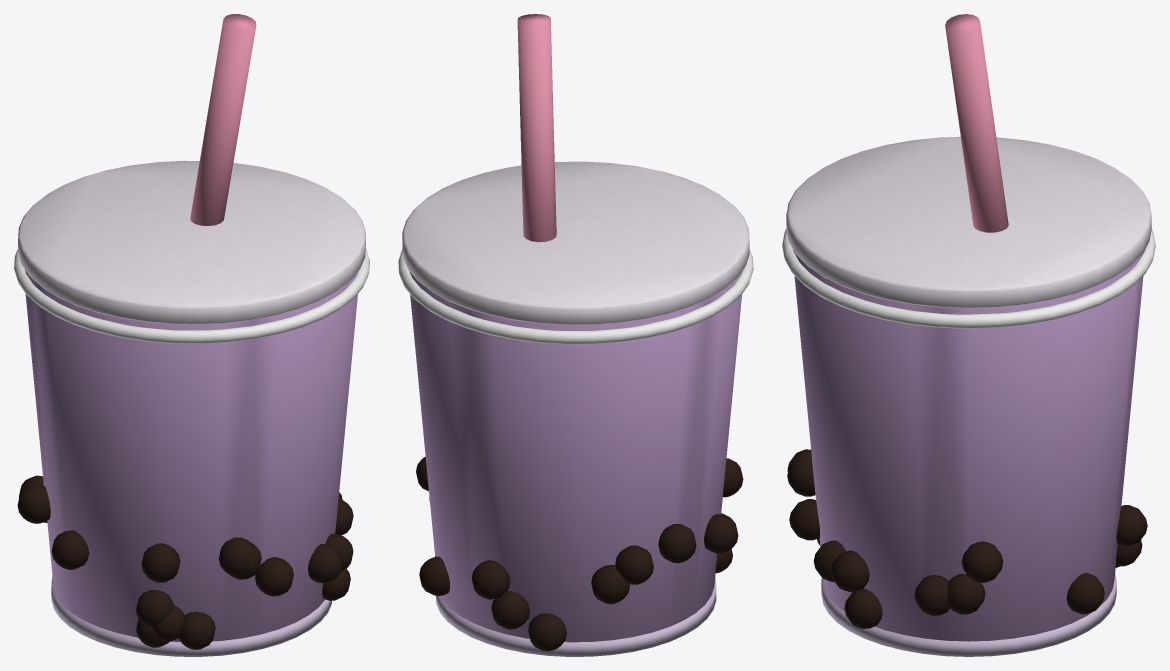
The model's file is keepsake-taro-milk-tea.glb.
The picture shows the model from 3 angles, left to right: view 1: azimuth 30°, elevation 25°; view 2: azimuth 150°, elevation 25°; view 3: azimuth 270°, elevation 25°; orthographic projection. The views are drawn at different scales.
Parts seen in each view (by area): view 1: keepsake-taro-milk-tea; view 2: keepsake-taro-milk-tea; view 3: keepsake-taro-milk-tea.
Part boxes in pixels (left/top/right/bottom): keepsake-taro-milk-tea: left=14, top=14, right=369, bottom=656; keepsake-taro-milk-tea: left=398, top=14, right=753, bottom=656; keepsake-taro-milk-tea: left=782, top=14, right=1155, bottom=656.
Bounding box in the file's own units: 0.0965 × 0.17 × 0.0965.
Materials: 1 (1 with a texture image).
